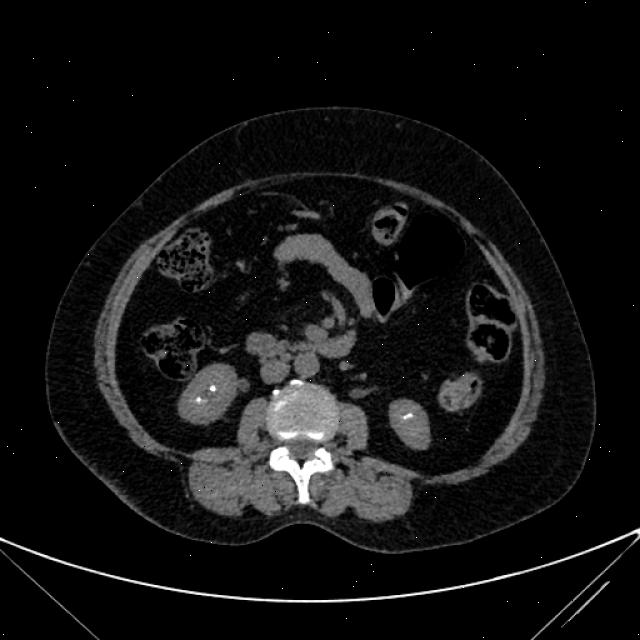kidneystone: (402, 412, 414, 419), (209, 385, 216, 392), (195, 398, 201, 402)
